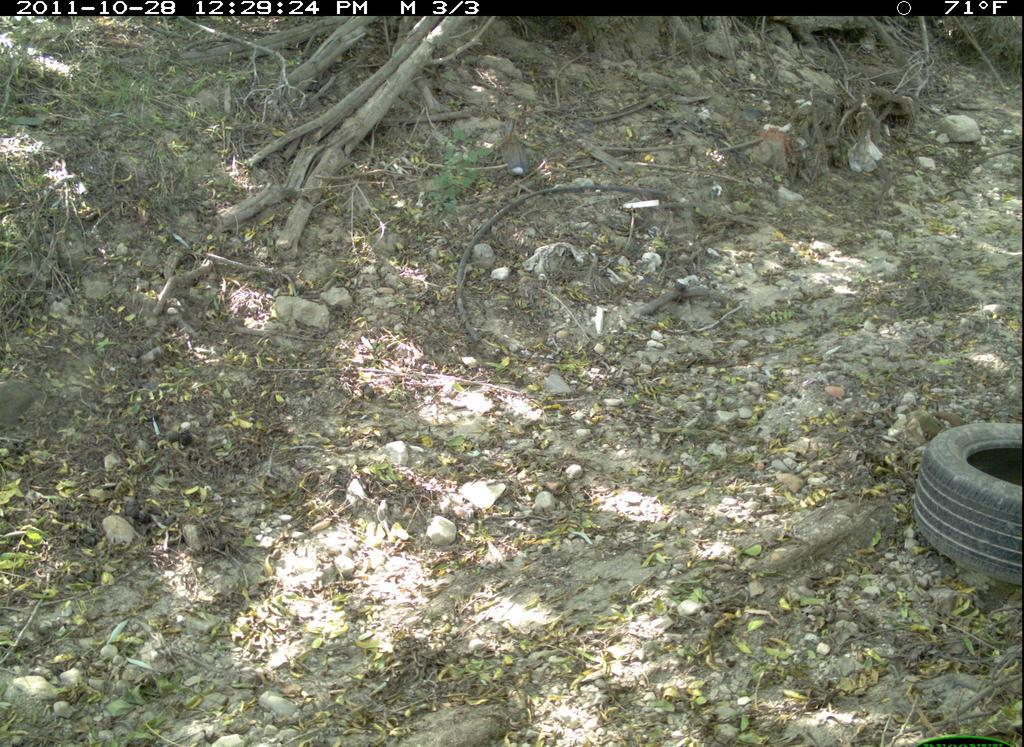rabbit: (495, 112, 537, 186)
